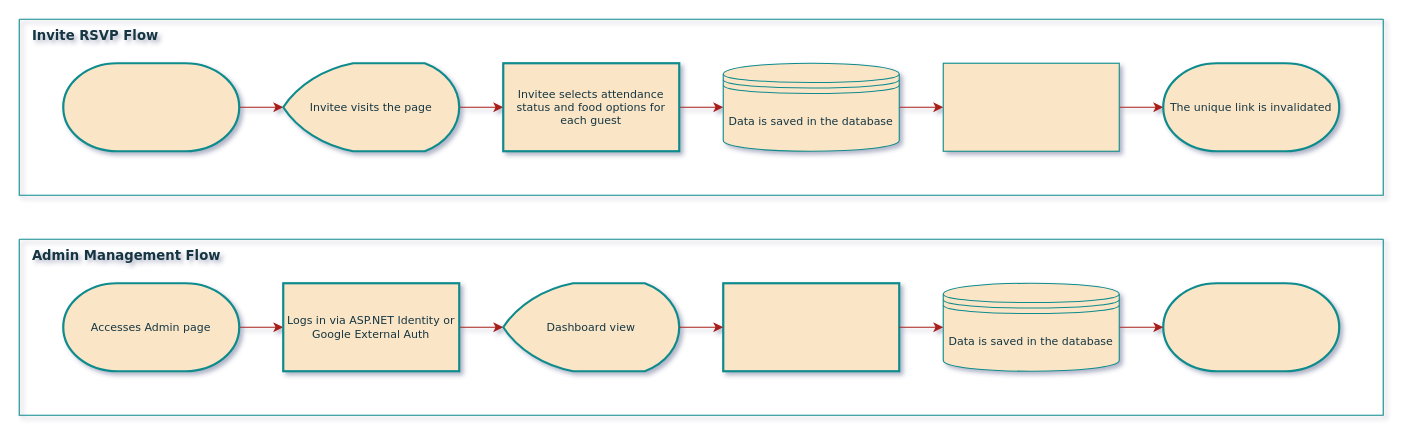
Some shapes in this 1409 by 441 pixel diagram are drawn without their labels. The centre of each missing label's shape, as x and y in pixels:
"Admin can manually add or update invites/guests" goes at point (811, 327).
"Confirmation email is sent to Invitee and Admin" goes at point (1030, 106).
"Invite is sent to invitee" goes at point (1251, 327).
"Invitee receives an email with a unique link" goes at point (151, 107).
